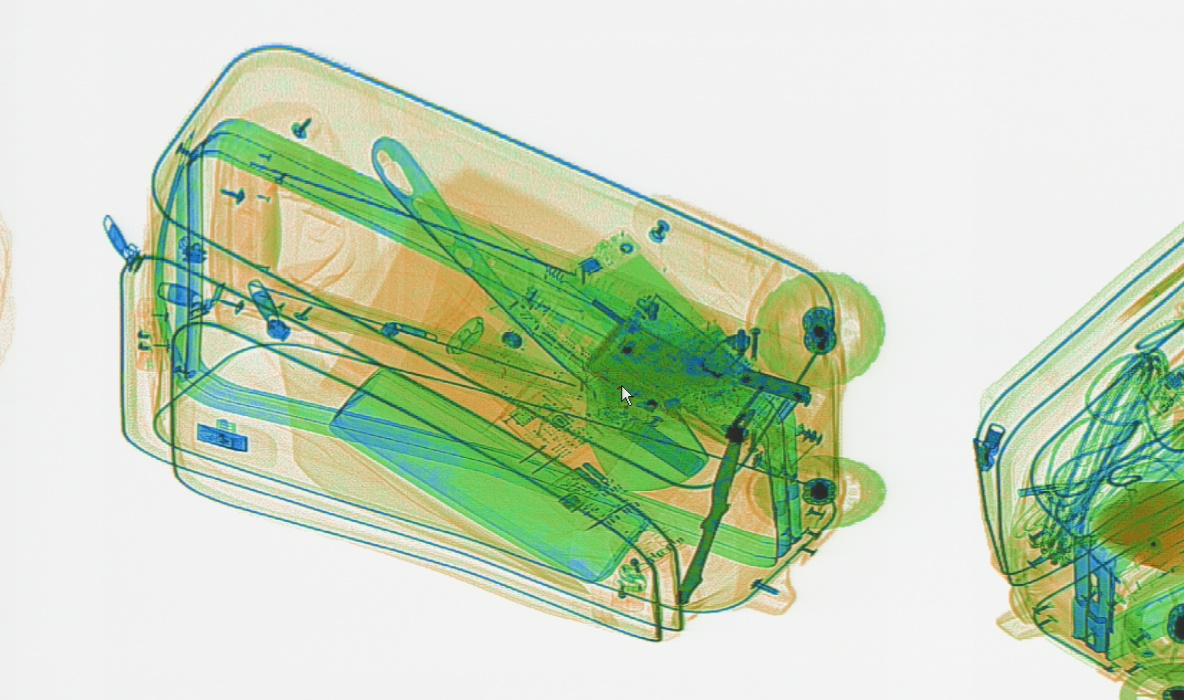knife: (674, 411, 755, 606)
pressure: (435, 296, 582, 438)
